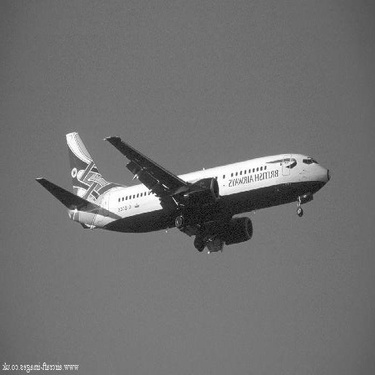airplane: (37, 116, 331, 261)
